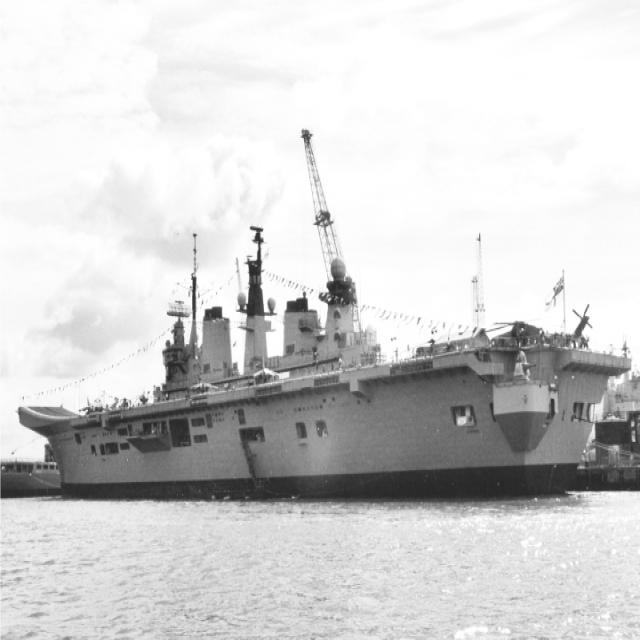Portanaves: (16, 214, 637, 506)
